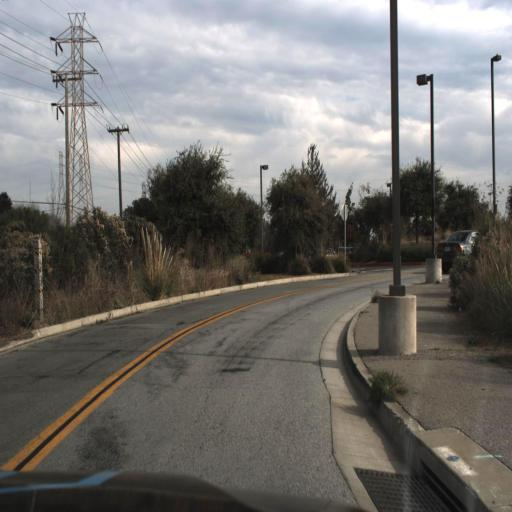car: (435, 224, 486, 266)
